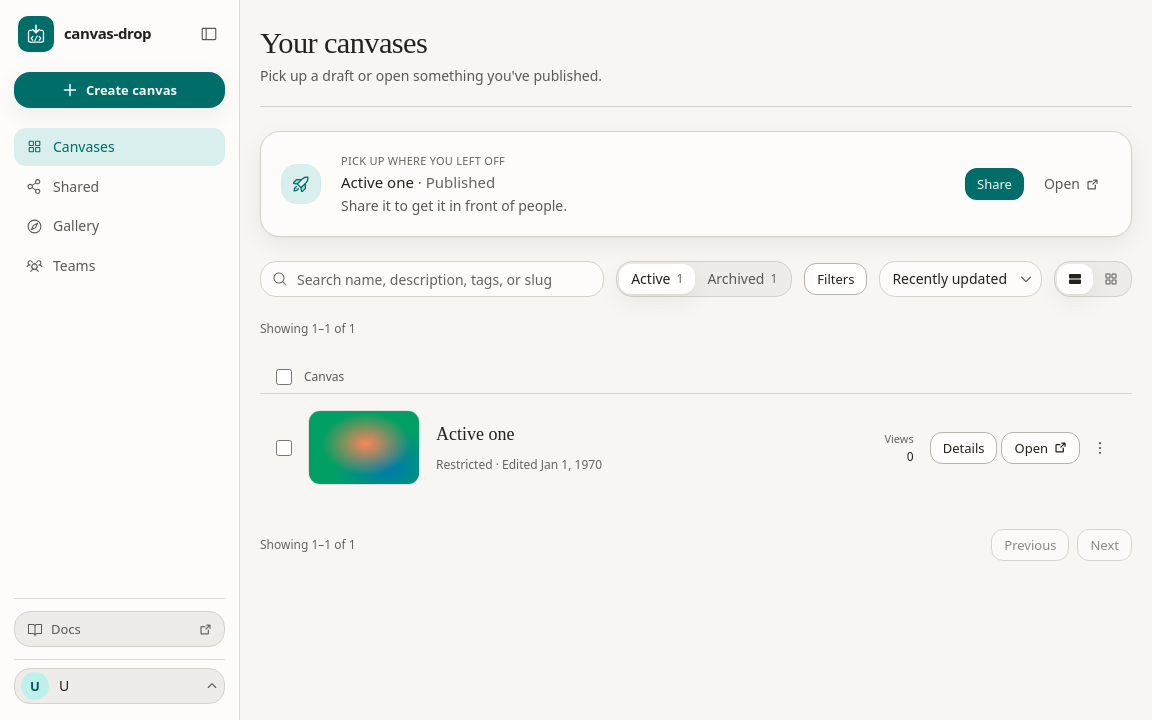
Test: Your canvases — server-side filters (plan 005) › toggles to the Archived scope: requests scope=archived and renders the Restore action
This screenshot has width=1152, height=720.
Expected: the text "Archived one" is not shown
Click the button "Archived 1": coordinates (742, 279) top-left (695, 264), bottom-right (789, 294)
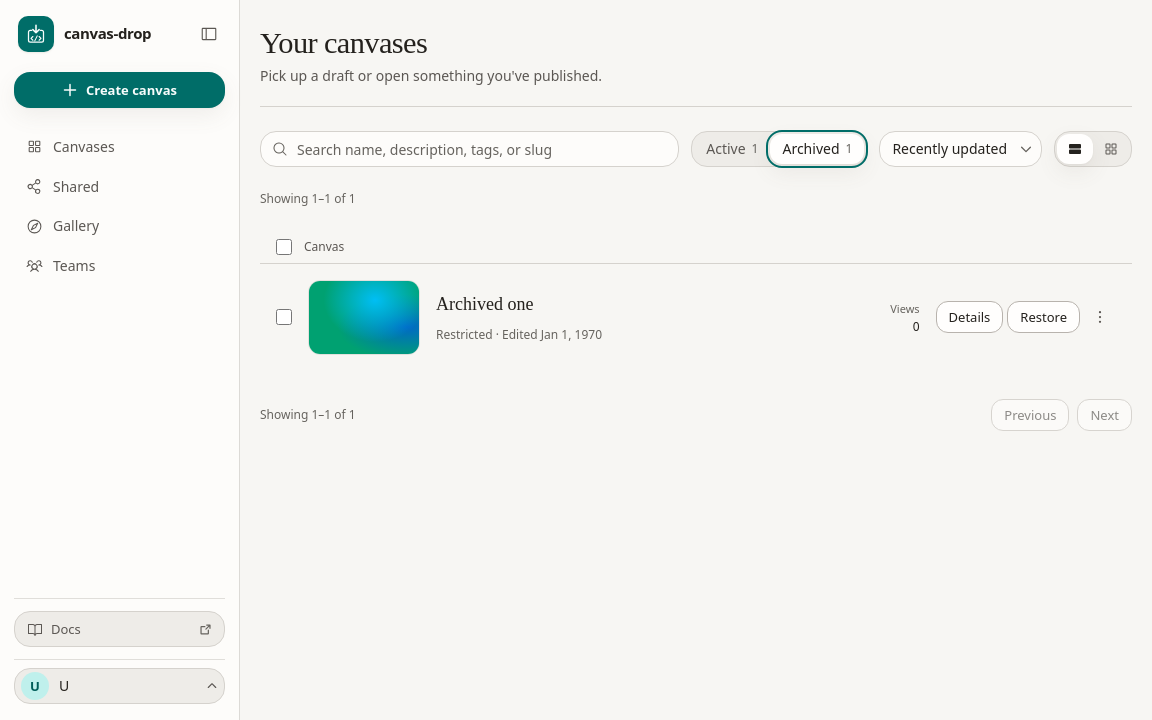
Expected: the link "Archived one" is shown, top-left (436, 294), bottom-right (534, 314)
Expected: the text "Active one" is gone
Expected: the button "Restore" is shown, top-left (1007, 301), bottom-right (1080, 333)
